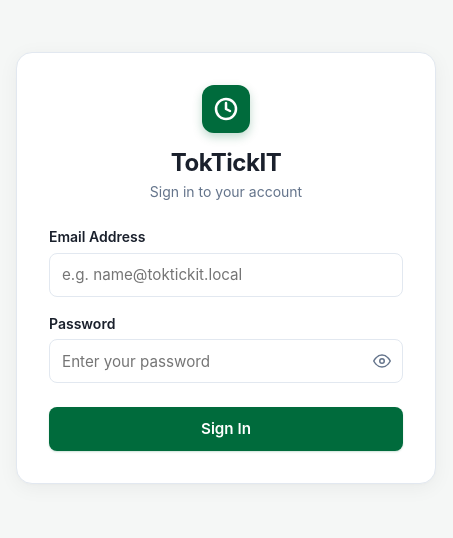
Test case: Login View (Login.test.tsx) › UI-02: displays safe generic error banner on invalid credentials (401)
Type "wrong@toktickit.local" into the field with test id "login-email-input" at [226, 275], box [49,253,403,297]
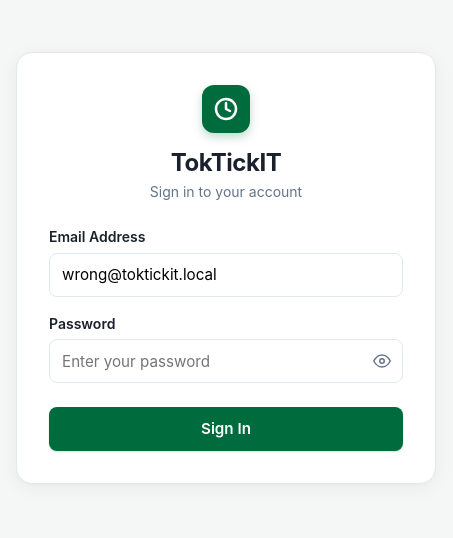
Type "WrongPassword!" into the password field with test id "login-password-input" at [226, 362], box [49,340,403,384]
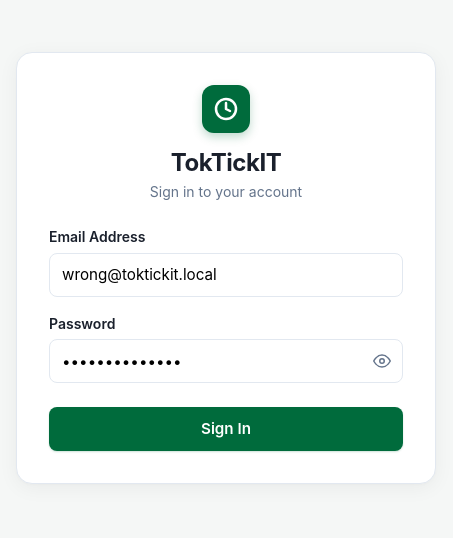
Click the button with test id "login-submit-btn" at [226, 430], box [49,408,403,452]
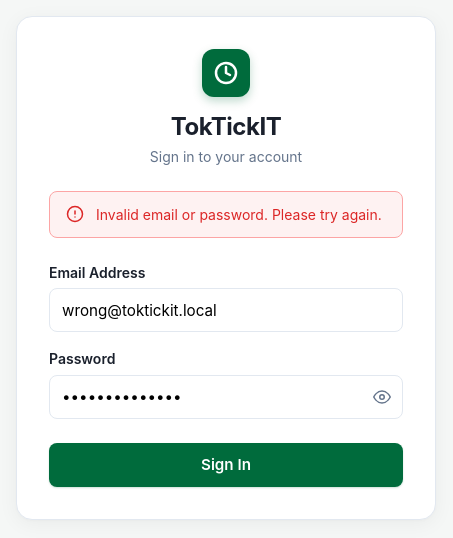
Expected: the message "Invalid email or password. Please try again." is shown, [49,191,403,238]
Expected: the message with test id "login-error-banner" reads "Invalid email or password. Please try again.", [96,206,382,223]
